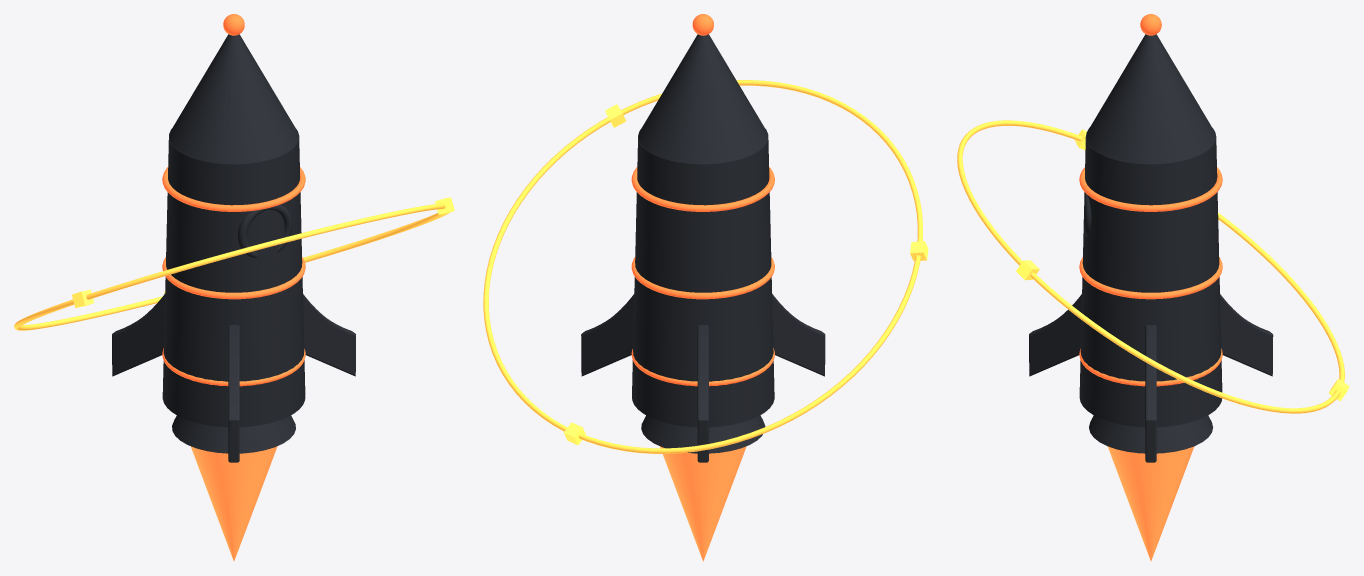
Rendered from hero-rocket.glb.
3 renders of one model, left to right at view 1: azimuth 30°, elevation 25°; view 2: azimuth 150°, elevation 25°; view 3: azimuth 270°, elevation 25°, orthographic.
Visible parts, largest first — view 1: Body, Nose, Flame, OrbitRing, Nozzle, Fin1, Fin0, Fin2, Ring0, Ring1, WindowBezel, Ring2; view 2: Body, Nose, OrbitRing, Flame, Fin2, Fin0, Nozzle, Fin1, Ring0, Ring1, Ring2; view 3: Body, Nose, OrbitRing, Flame, Nozzle, Fin1, Fin2, Fin0, Ring0, Ring1, Ring2.
Part boxes in pixels (bbox=[...]): Body: bbox=[162, 129, 305, 427]; Nose: bbox=[169, 34, 298, 163]; Flame: bbox=[191, 446, 277, 561]; OrbitRing: bbox=[14, 203, 449, 330]; Nozzle: bbox=[172, 415, 295, 453]; Fin1: bbox=[112, 293, 165, 376]; Fin0: bbox=[303, 294, 355, 376]; Fin2: bbox=[228, 324, 239, 462]; Ring0: bbox=[162, 167, 305, 211]; Ring1: bbox=[162, 257, 305, 299]; WindowBezel: bbox=[237, 204, 292, 257]; Ring2: bbox=[162, 348, 305, 386]; Body: bbox=[632, 129, 774, 427]; Nose: bbox=[638, 34, 767, 163]; OrbitRing: bbox=[483, 80, 922, 453]; Flame: bbox=[659, 446, 746, 561]; Fin2: bbox=[772, 293, 825, 376]; Fin0: bbox=[581, 294, 634, 376]; Nozzle: bbox=[641, 415, 765, 453]; Fin1: bbox=[697, 325, 708, 462]; Ring0: bbox=[631, 167, 774, 211]; Ring1: bbox=[631, 257, 774, 299]; Ring2: bbox=[631, 348, 774, 386]; Body: bbox=[1079, 127, 1222, 427]; Nose: bbox=[1086, 34, 1215, 164]; OrbitRing: bbox=[957, 120, 1344, 413]; Flame: bbox=[1107, 446, 1194, 561]; Nozzle: bbox=[1089, 415, 1212, 453]; Fin1: bbox=[1220, 294, 1273, 376]; Fin2: bbox=[1029, 294, 1081, 376]; Fin0: bbox=[1145, 325, 1156, 462]; Ring0: bbox=[1079, 167, 1222, 211]; Ring1: bbox=[1079, 257, 1222, 299]; Ring2: bbox=[1079, 348, 1222, 386].
Bounding box in the file's own units: 2.93 × 3.88 × 2.53.
